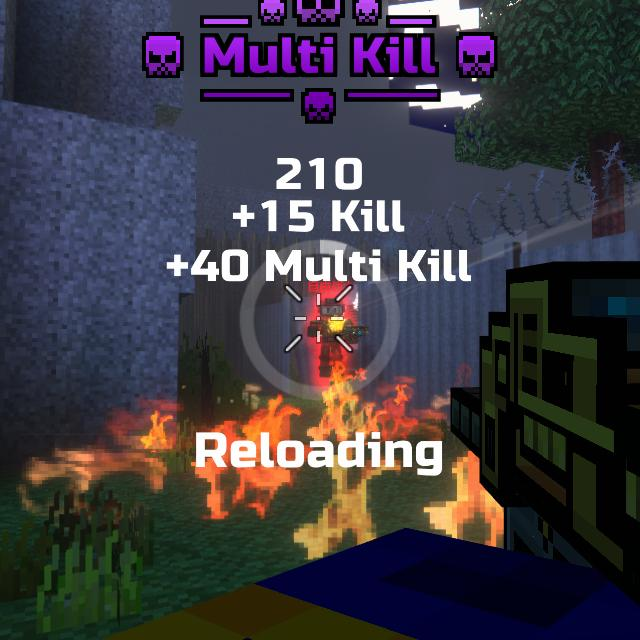Enemy: (307, 298, 354, 377)
